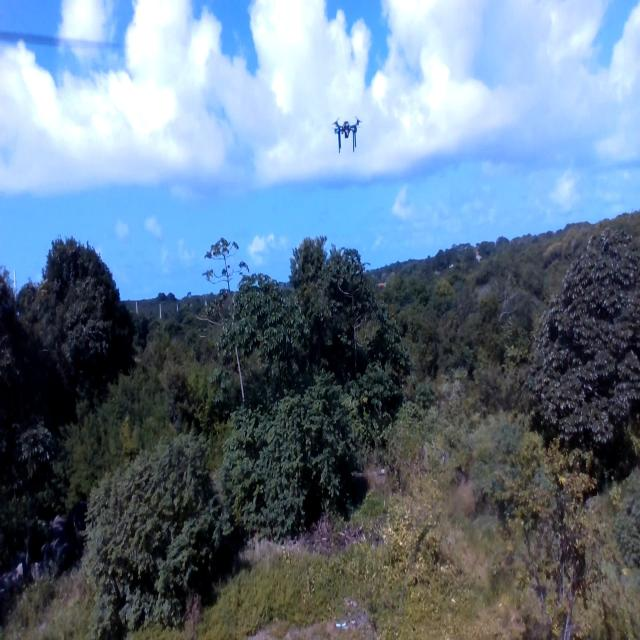-uav-: (322, 101, 369, 165)
